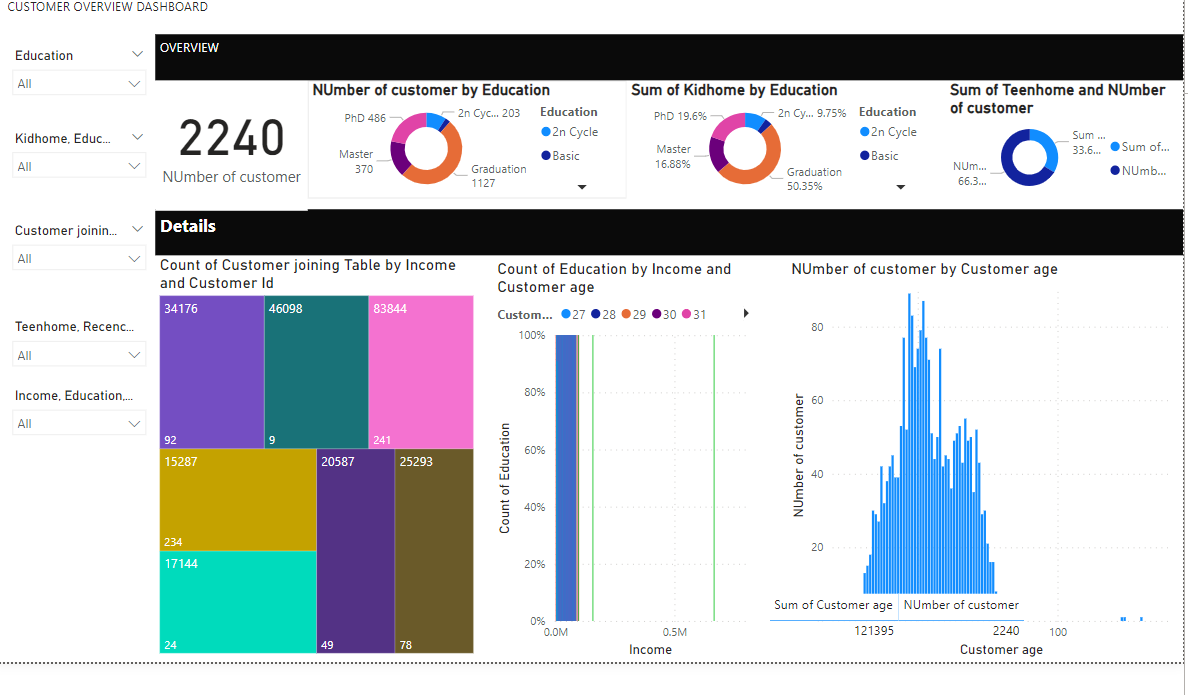

The dashboard page shown, as its layout file describes it:
{"tool":"powerbi","page":{"name":"Page 1","canvas":[1280,720],"ordinal":0},"visuals":[{"type":"textbox","box":[9.6,0,1271,53.5],"z":0},{"type":"slicer","fields":{"Values":["Customer Overview Data.Education"]},"box":[9.4,53.8,164.1,79.4],"z":1000},{"type":"slicer","fields":{"Values":["Customer Overview Data.Kidhome","Customer Overview Data.Education"]},"box":[9.4,142.6,164.1,79.4],"z":2000},{"type":"slicer","fields":{"Values":["Customer Overview Data.Customer joining Table","Customer Overview Data.Kidhome","Customer Overview Data.Teenhome","Customer Overview Data.Education"]},"box":[9.4,242.1,164.1,79.4],"z":3000},{"type":"slicer","fields":{"Values":["Customer Overview Data.Teenhome","Customer Overview Data.Recency","Customer Overview Data.Education","Customer Overview Data.Marital_Status"]},"box":[9.4,345.7,164.1,79.4],"z":4000},{"type":"textbox","box":[173.5,232.7,1107,49.8],"z":5000},{"type":"card","fields":{"Values":["Customer Overview Data.NUmber of customer"]},"box":[173.5,84.7,164.1,149.3],"z":6000},{"type":"donutChart","fields":{"Series":["Customer Overview Data.Education"],"Y":["Customer Overview Data.NUmber of customer"]},"box":[337.6,94.2,343,127.8],"z":7000},{"type":"donutChart","fields":{"Y":["Sum(Customer Overview Data.Teenhome)","Customer Overview Data.NUmber of customer"]},"box":[1023.6,94.2,256.9,127.8],"z":8000},{"type":"donutChart","fields":{"Series":["Customer Overview Data.Education"],"Y":["Sum(Customer Overview Data.Kidhome)"]},"box":[680.6,94.2,343,127.8],"z":9000},{"type":"textbox","box":[173,44.4,1107,49.8],"z":10000},{"type":"clusteredColumnChart","fields":{"Y":["Customer Overview Data.NUmber of customer"],"Category":["Customer Overview Data.Customer age"]},"box":[852.8,286.5,427.7,433.1],"z":11000},{"type":"tableEx","fields":{"Values":["Sum(Customer Overview Data.Customer age)","Customer Overview Data.NUmber of customer"]},"box":[828.6,641.6,452,78],"z":11001},{"type":"hundredPercentStackedColumnChart","fields":{"Category":["Customer Overview Data.Income"],"Series":["Customer Overview Data.Customer age"],"Y":["CountNonNull(Customer Overview Data.Education)"]},"box":[536.7,286.5,291.9,433.1],"z":11002},{"type":"treemap","fields":{"Group":["Customer Overview Data.Income"],"Values":["CountNonNull(Customer Overview Data.Customer joining Table)"],"Details":["Customer Overview Data.Customer Id"]},"box":[173.5,282.5,347,433.1],"z":11003},{"type":"slicer","fields":{"Values":["Customer Overview Data.Income","Customer Overview Data.Education","Customer Overview Data.Marital_Status"]},"box":[9.4,419.7,164.1,79.4],"z":11004}]}

Visuals, with their boxes in screenshot pixels (x1, y1, x2, y2):
textbox: left=12, top=0, right=1175, bottom=40
slicer - Customer Overview Data.Education: left=12, top=40, right=162, bottom=113
slicer - Customer Overview Data.Kidhome x Customer Overview Data.Education: left=12, top=121, right=162, bottom=194
slicer - Customer Overview Data.Customer joining Table x Customer Overview Data.Kidhome: left=12, top=212, right=162, bottom=285
slicer - Customer Overview Data.Teenhome x Customer Overview Data.Recency: left=12, top=307, right=162, bottom=380
textbox: left=162, top=204, right=1175, bottom=249
card - Customer Overview Data.NUmber of customer: left=162, top=68, right=312, bottom=205
donutChart - Customer Overview Data.Education x Customer Overview Data.NUmber of customer: left=312, top=77, right=626, bottom=194
donutChart - Sum(Customer Overview Data.Teenhome) x Customer Overview Data.NUmber of customer: left=940, top=77, right=1175, bottom=194
donutChart - Customer Overview Data.Education x Sum(Customer Overview Data.Kidhome): left=626, top=77, right=940, bottom=194
textbox: left=161, top=31, right=1175, bottom=77
clusteredColumnChart - Customer Overview Data.NUmber of customer x Customer Overview Data.Customer age: left=784, top=253, right=1175, bottom=649
tableEx - Sum(Customer Overview Data.Customer age) x Customer Overview Data.NUmber of customer: left=761, top=578, right=1175, bottom=649
hundredPercentStackedColumnChart - Customer Overview Data.Income x Customer Overview Data.Customer age: left=494, top=253, right=761, bottom=649
treemap - Customer Overview Data.Income x CountNonNull(Customer Overview Data.Customer joining Table): left=162, top=249, right=479, bottom=646
slicer - Customer Overview Data.Income x Customer Overview Data.Education: left=12, top=375, right=162, bottom=448
